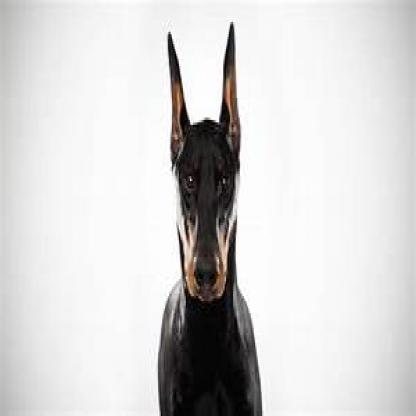dog: (158, 14, 258, 414)
